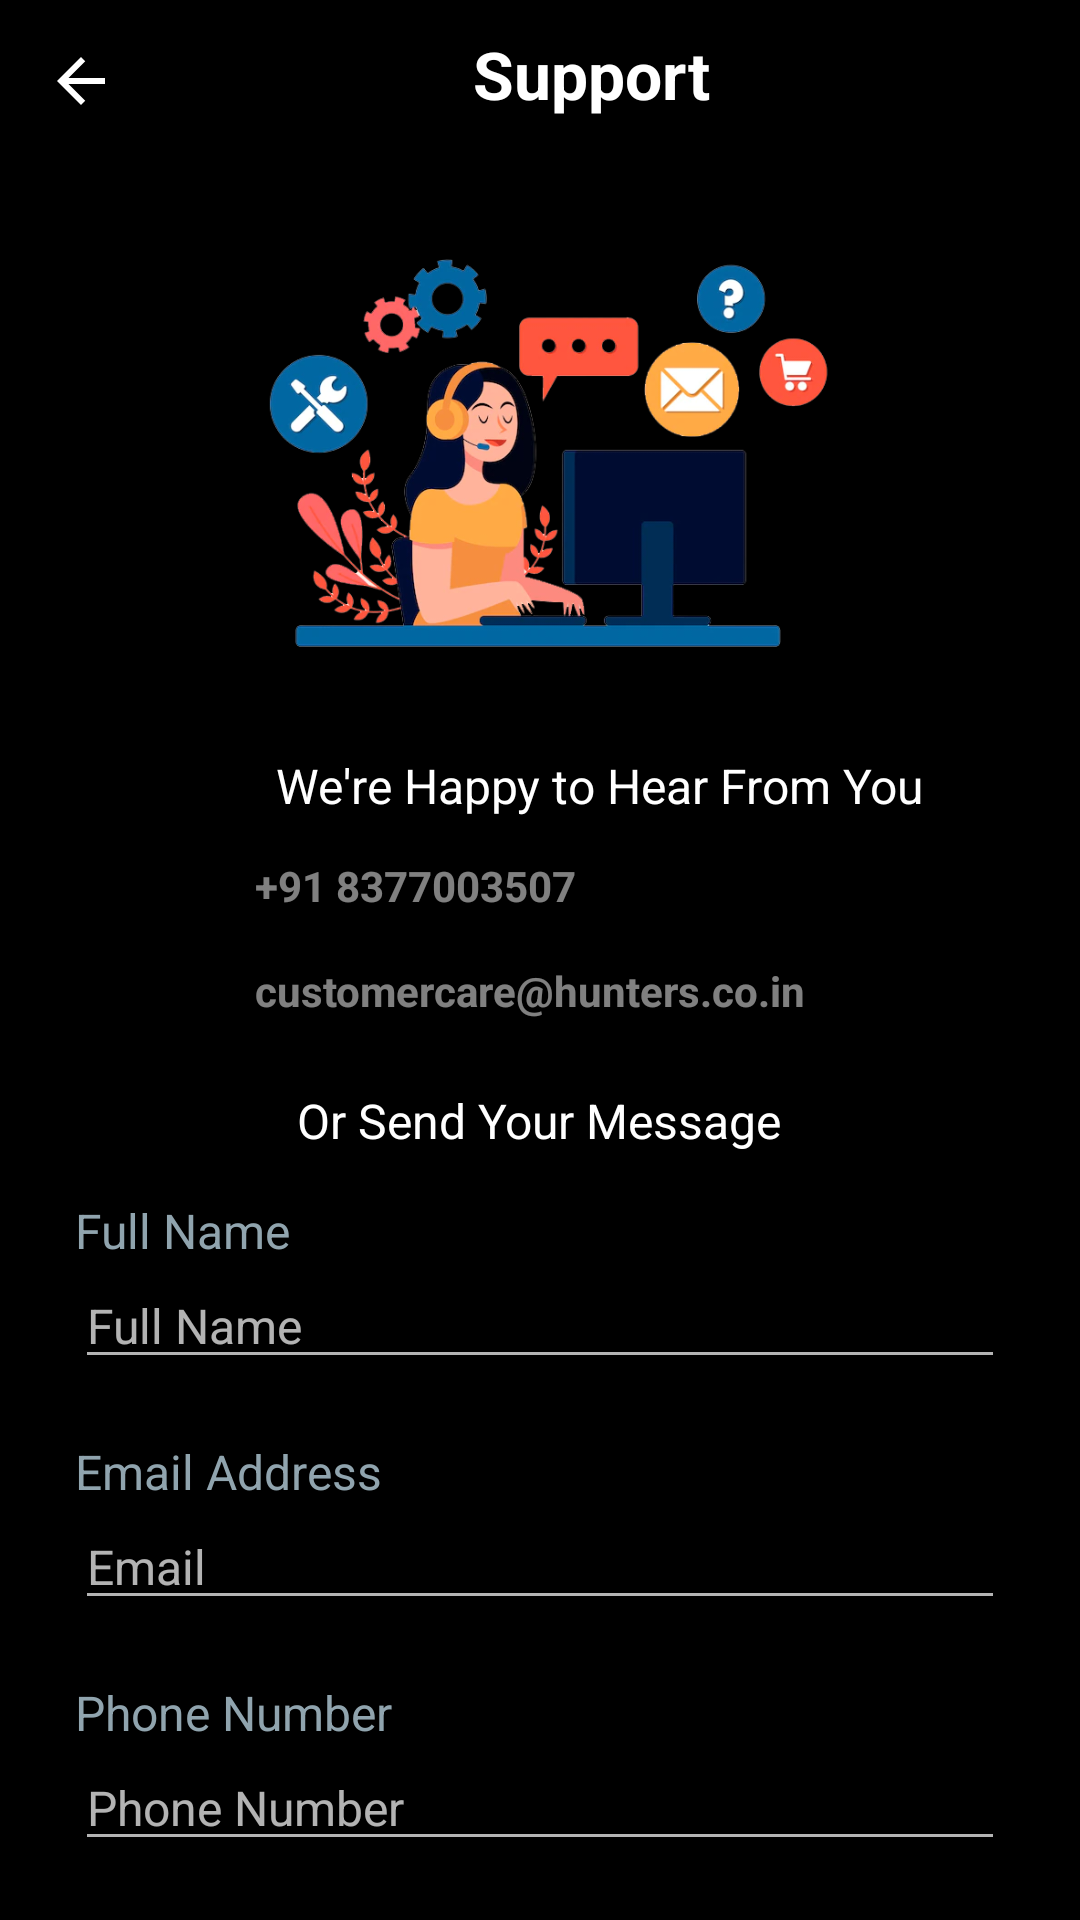

Icons on this 1080px x 1920px Android screen, each with the point to tap as [x,y]:
arrow back: [81,81]
